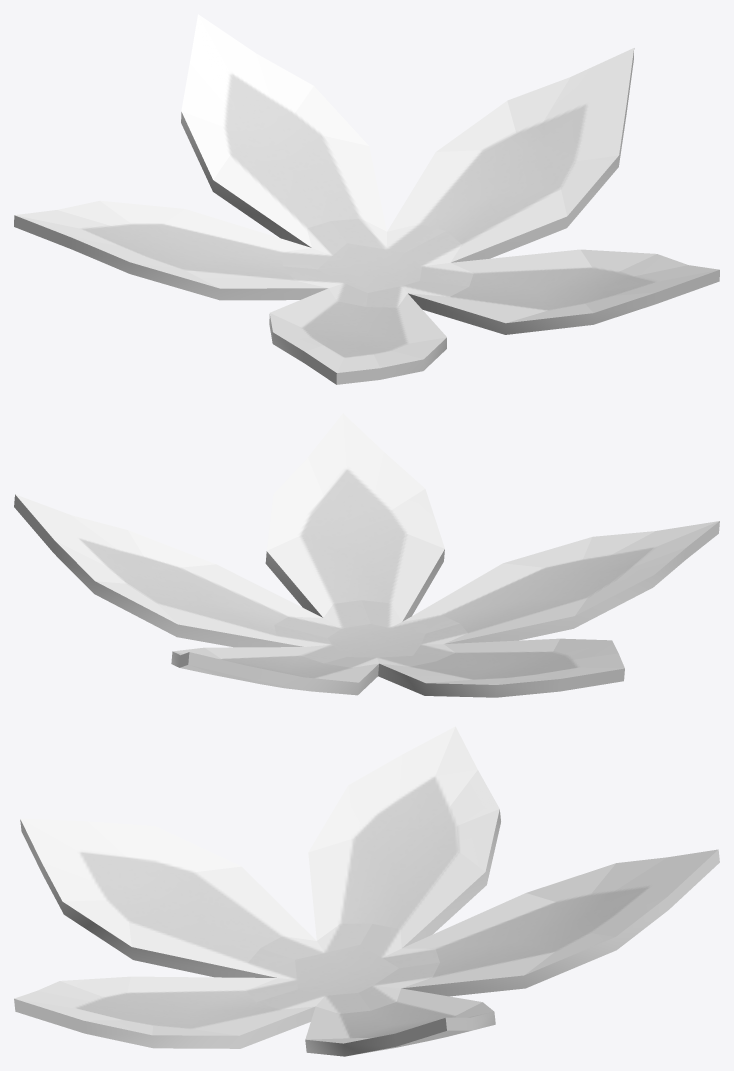
The model's file is flower.gltf.
3 views of the same model, one above another, from view 1: azimuth 30°, elevation 25°; view 2: azimuth 150°, elevation 25°; view 3: azimuth 270°, elevation 25° (orthographic). The views are drawn at different scales.
Visible parts, largest first — view 1: Flower.002; view 2: Flower.002; view 3: Flower.002.
Boxes of the visible parts, left/top/right/bottom form: Flower.002: left=14, top=14, right=719, bottom=384; Flower.002: left=14, top=413, right=719, bottom=697; Flower.002: left=14, top=726, right=719, bottom=1056.
Size of the model in its own units: 0.0781 by 0.0166 by 0.0744.
Materials: 1 (1 with a texture image).
